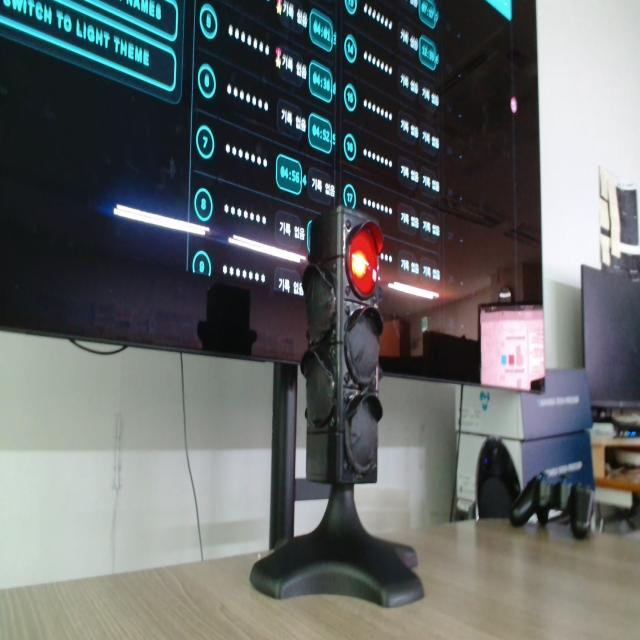red_light: (346, 224, 382, 299)
